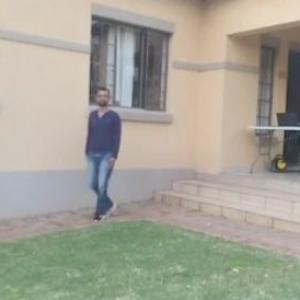follow: (87, 80, 132, 228)
